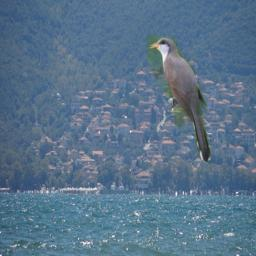Cuckoo: (147, 35, 212, 165)
